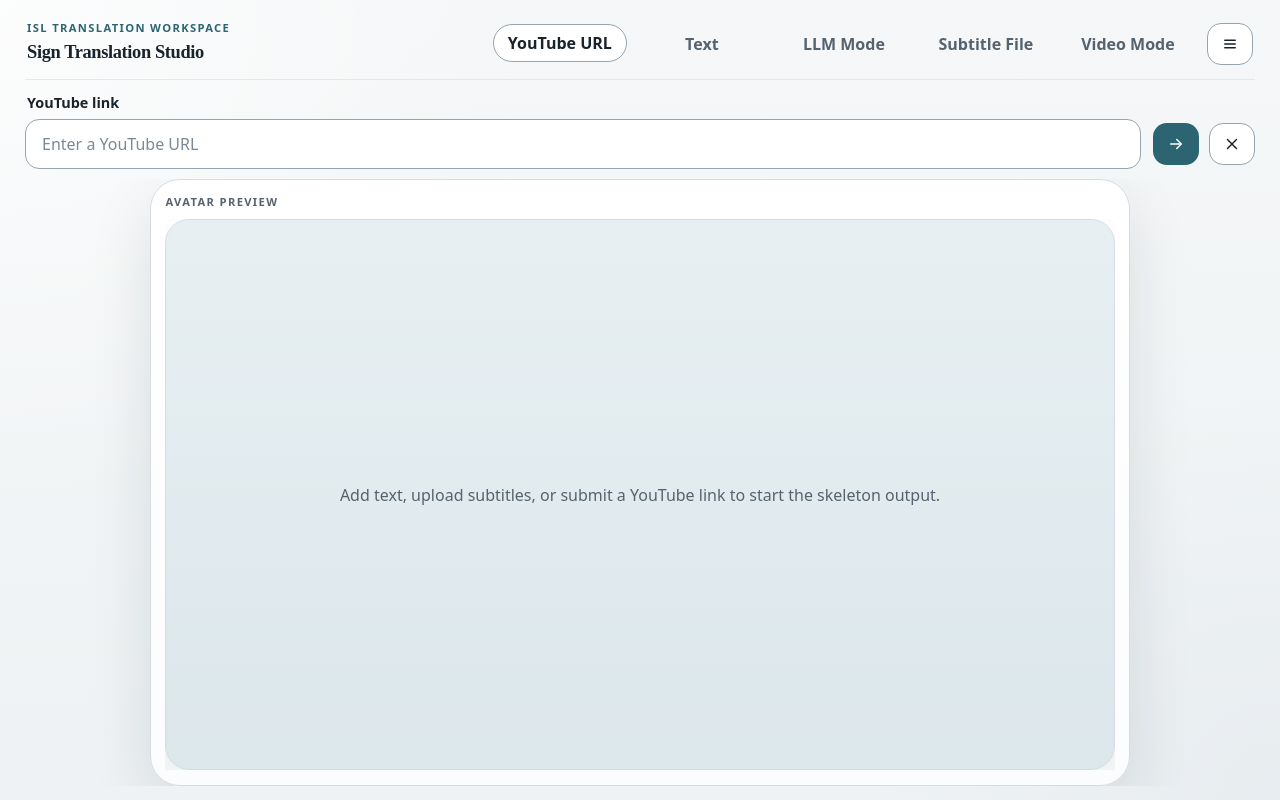
it: App › opens and closes session settings from the gear modal flow
Click the tab "Video Mode": [1128, 44] box x1=1061 y1=25 x2=1195 y2=63
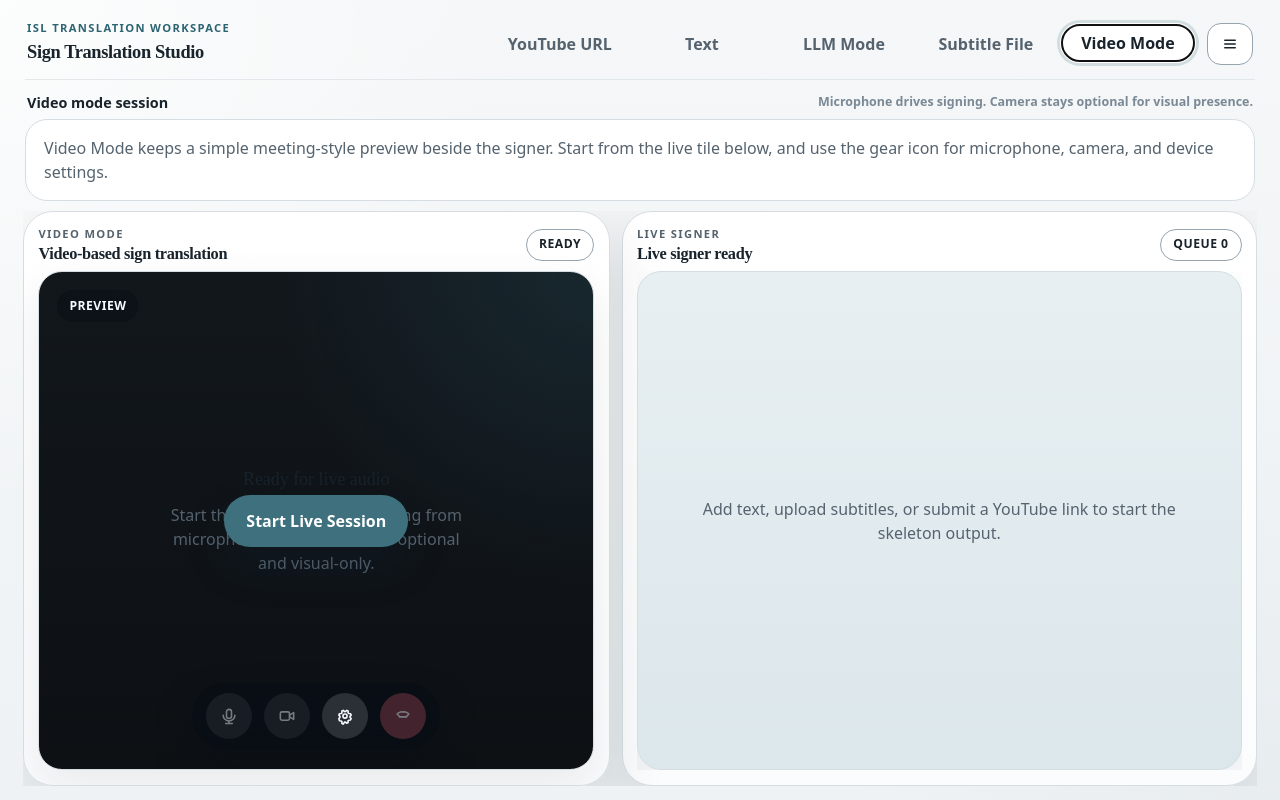
Click the button named "open session settings": [345, 716] box x1=322 y1=693 x2=368 y2=739
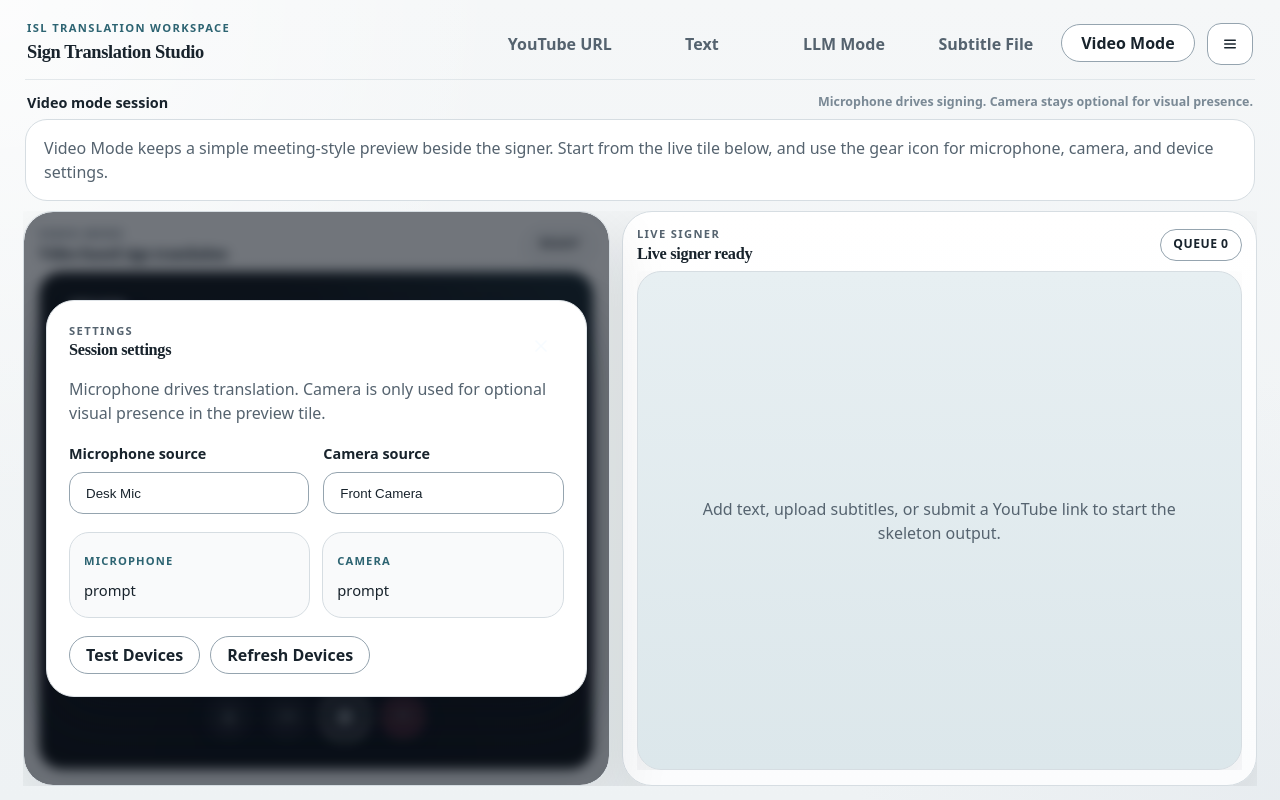
Result: the dialog "Session settings" is shown at x1=46 y1=300 x2=586 y2=697
Result: the text "Camera is only used for optional visual presence" is shown at x1=69 y1=378 x2=546 y2=424
Click the element that starts with "Settings": [316, 750] box x1=24 y1=212 x2=608 y2=785
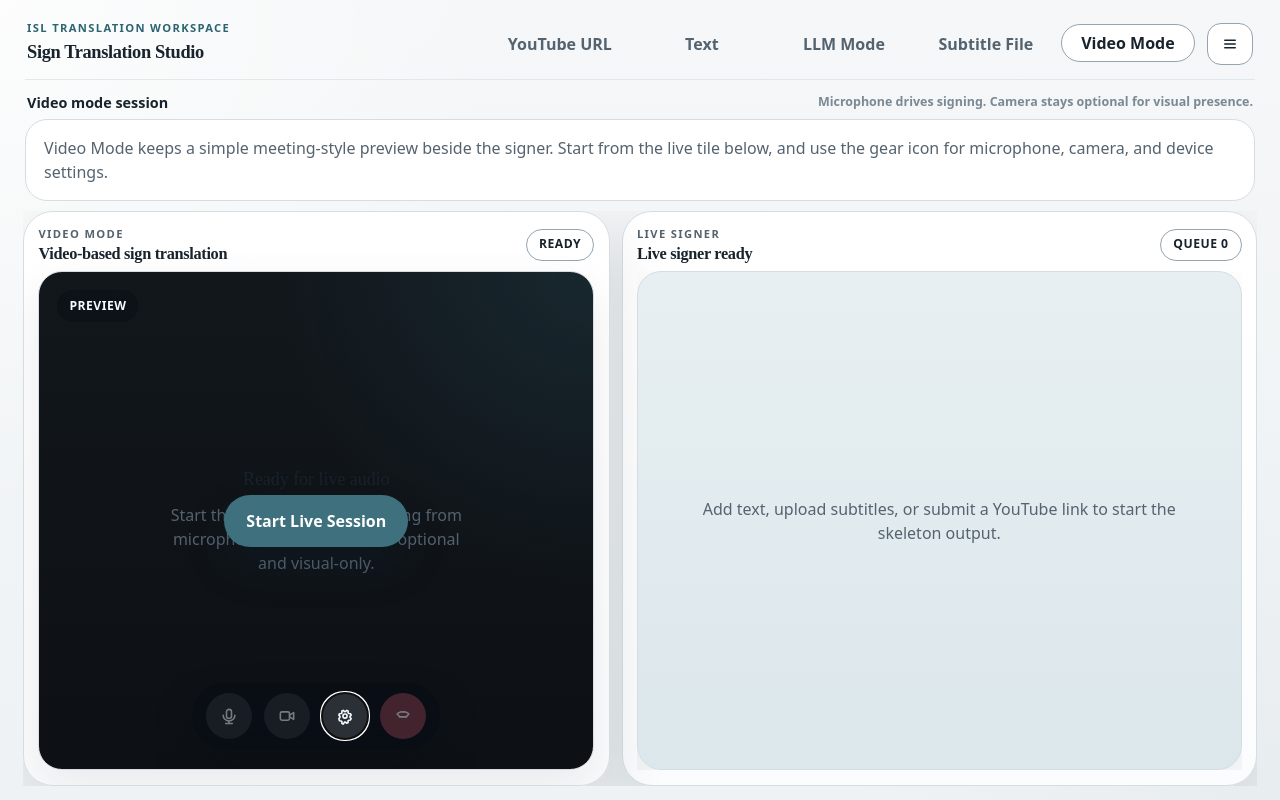
Result: the heading "Session settings" is gone
Click the button named "open session settings": [345, 716] box x1=322 y1=693 x2=368 y2=739
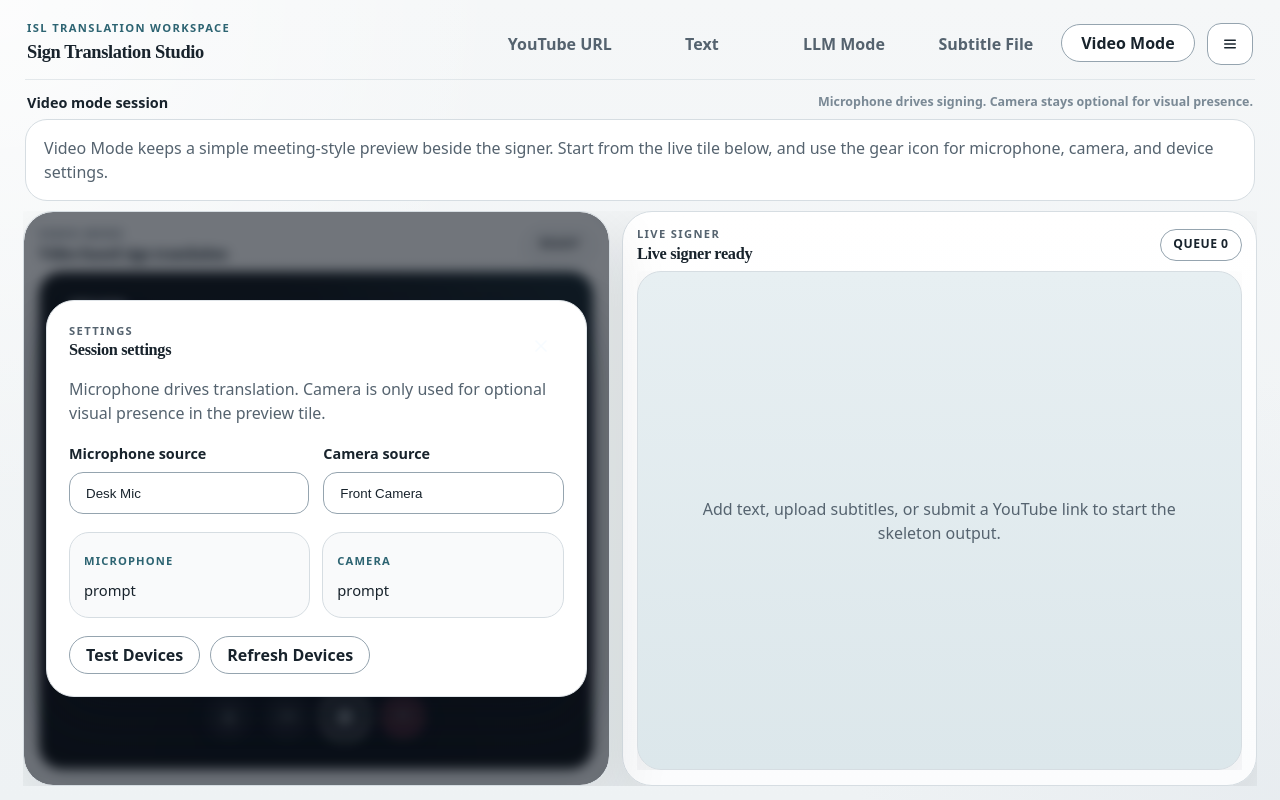
Result: the dialog "Session settings" is shown at x1=46 y1=300 x2=586 y2=697
Press Escape
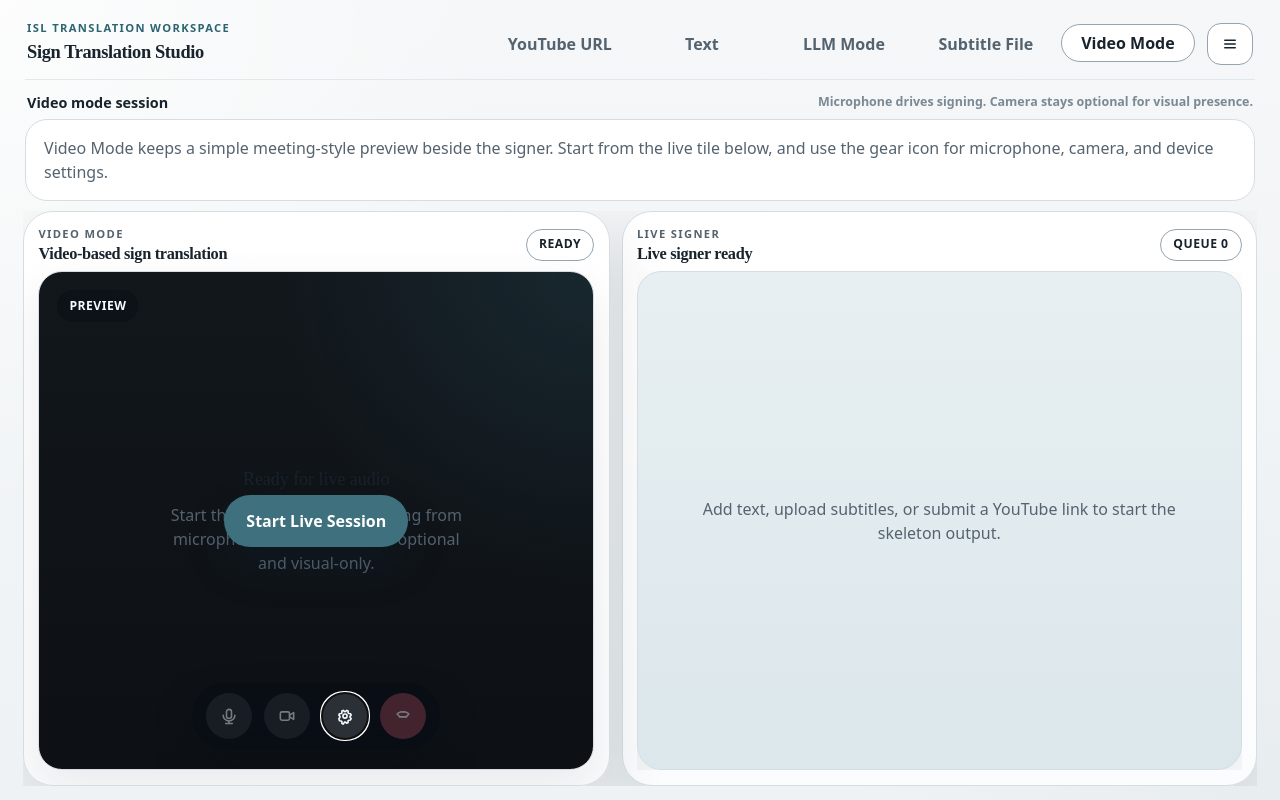
Result: the heading "Session settings" is gone
